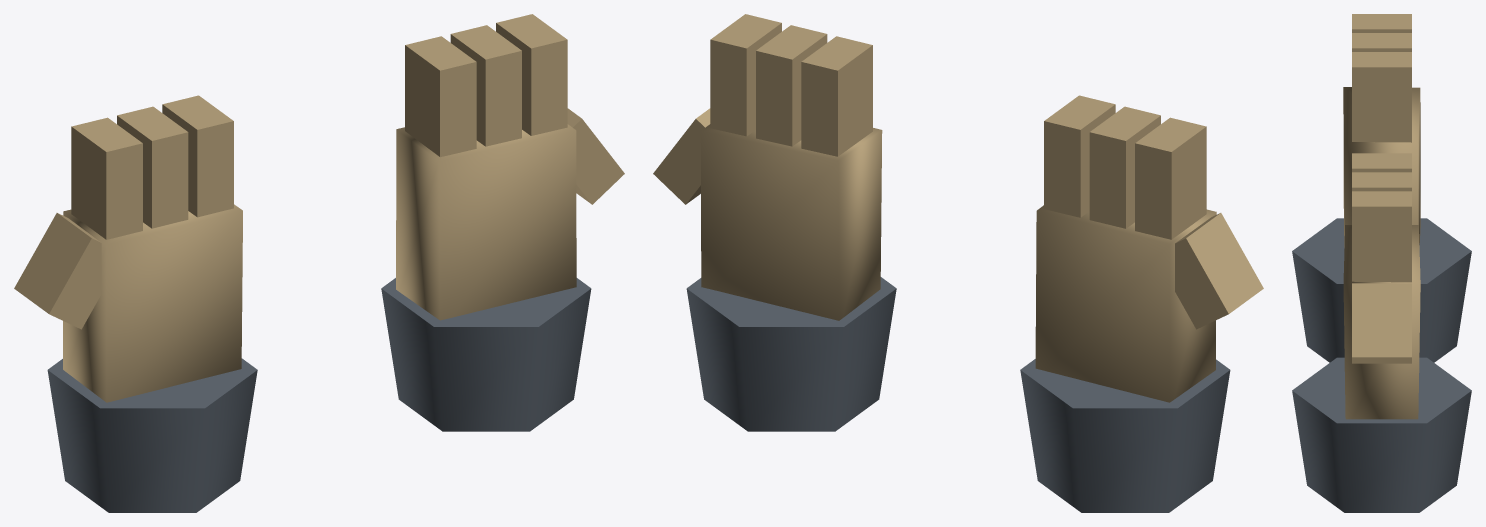
Rendered from gloves_t1.glb.
3 views of the same model, side by side, from view 1: azimuth 30°, elevation 25°; view 2: azimuth 150°, elevation 25°; view 3: azimuth 270°, elevation 25° (orthographic). The views are drawn at different scales.
Visible parts, largest first — view 1: sideR_cloth1, sideL_cloth1, sideL_darkMetal1, sideR_darkMetal1; view 2: sideR_cloth1, sideL_cloth1, sideL_darkMetal1, sideR_darkMetal1; view 3: sideL_cloth1, sideL_darkMetal1, sideR_darkMetal1, sideR_cloth1.
Boxes of the visible parts, bbox=[...] form: sideR_cloth1: bbox=[14, 95, 242, 402]; sideL_cloth1: bbox=[396, 14, 624, 320]; sideL_darkMetal1: bbox=[381, 278, 591, 431]; sideR_darkMetal1: bbox=[47, 358, 257, 512]; sideR_cloth1: bbox=[1035, 95, 1263, 402]; sideL_cloth1: bbox=[653, 14, 882, 320]; sideL_darkMetal1: bbox=[686, 277, 896, 431]; sideR_darkMetal1: bbox=[1020, 359, 1230, 512]; sideL_cloth1: bbox=[1343, 153, 1420, 419]; sideL_darkMetal1: bbox=[1292, 357, 1471, 512]; sideR_darkMetal1: bbox=[1292, 218, 1471, 362]; sideR_cloth1: bbox=[1343, 14, 1420, 247].
Size of the model in its own units: 0.3797 by 0.225 by 0.12.
